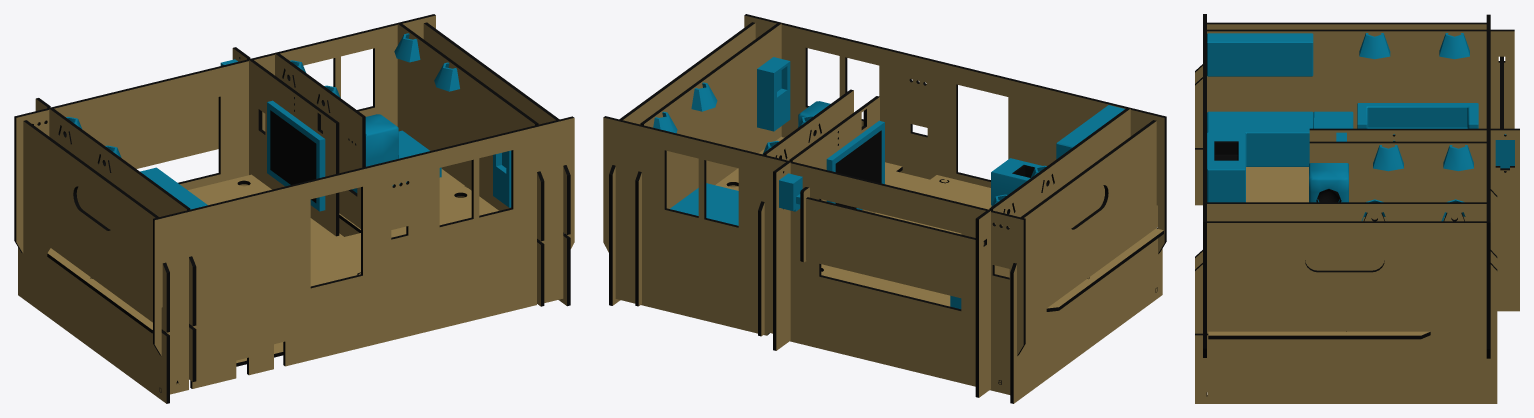
The model's file is Iot_Walls_Fin.fbx.
3 views of the same model, side by side, from view 1: azimuth 30°, elevation 25°; view 2: azimuth 150°, elevation 25°; view 3: azimuth 270°, elevation 25° (orthographic).
Parts seen in each view (by area): view 1: A_FrontWall, D_SideWall, B_BackWall, H_4thInsideWall, C-Floor, E_1stInsideWall, Blind_plate, F_2ndInsideWall, G_3rdInsideWall, TV, I_SideWall, Aircon_LED (+5 smaller); view 2: B_BackWall, D_SideWall, A_FrontWall, Blind_plate, H_4thInsideWall, E_1stInsideWall, C-Floor, F_2ndInsideWall, I_SideWall, G_3rdInsideWall, TV, Sensor (+4 smaller); view 3: I_SideWall, E_1stInsideWall, Kitchen, G_3rdInsideWall, H_4thInsideWall, F_2ndInsideWall, C-Floor, Kauchi, D_SideWall, B_BackWall, Aircon_LED, A_FrontWall (+5 smaller).
Boxes of the visible parts, <box> form: A_FrontWall: <box>153,116,574,394</box>; D_SideWall: <box>18,120,169,403</box>; B_BackWall: <box>14,14,435,253</box>; H_4thInsideWall: <box>397,23,544,306</box>; C-Floor: <box>47,169,563,333</box>; E_1stInsideWall: <box>35,98,196,381</box>; Blind_plate: <box>83,97,218,168</box>; F_2ndInsideWall: <box>232,47,339,236</box>; G_3rdInsideWall: <box>275,52,365,236</box>; TV: <box>267,100,325,211</box>; I_SideWall: <box>423,22,570,306</box>; Aircon_LED: <box>352,114,398,192</box>; B_BackWall: <box>603,116,1025,394</box>; D_SideWall: <box>1010,120,1162,403</box>; A_FrontWall: <box>744,14,1166,253</box>; Blind_plate: <box>806,197,986,301</box>; H_4thInsideWall: <box>635,22,781,306</box>; E_1stInsideWall: <box>975,107,1130,397</box>; C-Floor: <box>715,137,1163,311</box>; F_2ndInsideWall: <box>773,96,879,350</box>; I_SideWall: <box>609,22,755,305</box>; G_3rdInsideWall: <box>758,89,853,336</box>; TV: <box>826,120,884,210</box>; Sensor: <box>757,57,790,131</box>; I_SideWall: <box>1195,221,1497,403</box>; E_1stInsideWall: <box>1195,29,1514,202</box>; Kitchen: <box>1207,33,1353,202</box>; G_3rdInsideWall: <box>1309,141,1497,256</box>; H_4thInsideWall: <box>1195,202,1497,333</box>; F_2ndInsideWall: <box>1309,128,1519,311</box>; C-Floor: <box>1208,167,1430,339</box>; Kauchi: <box>1357,103,1478,141</box>; D_SideWall: <box>1195,22,1486,205</box>; B_BackWall: <box>1486,14,1490,358</box>; Aircon_LED: <box>1309,163,1348,202</box>; A_FrontWall: <box>1203,14,1206,394</box>.
Bounding box in the file's own units: 14.61 × 6.1 × 9.61.
